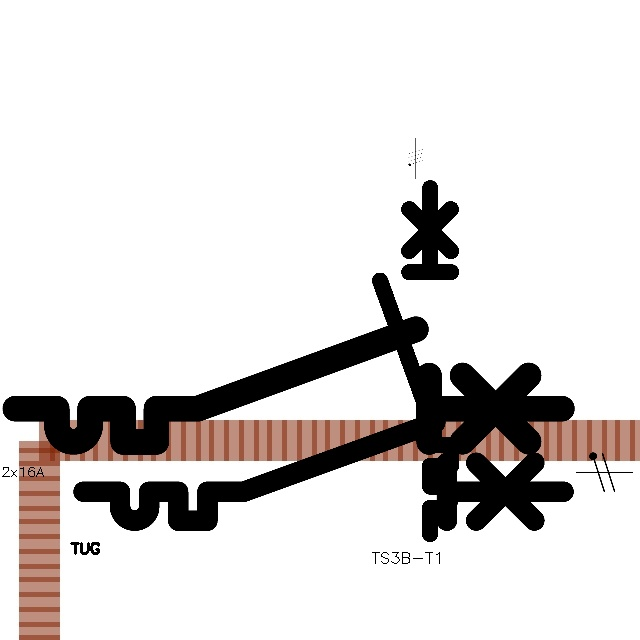interruptor_termomagnetico: (1, 315, 575, 456), (71, 410, 576, 533), (371, 179, 460, 543)
